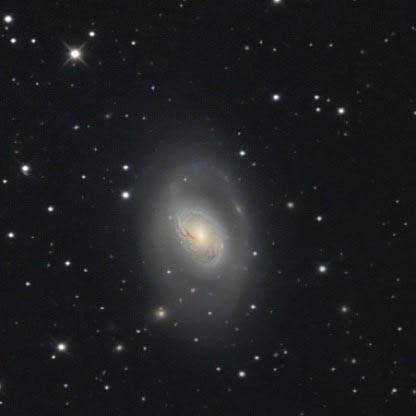Messier 96: (125, 141, 274, 331)
